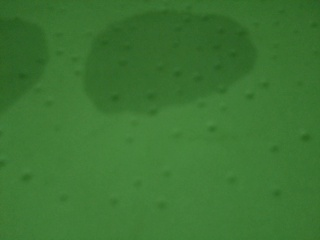Water_detected: (118, 21, 233, 100), (0, 41, 58, 126)
